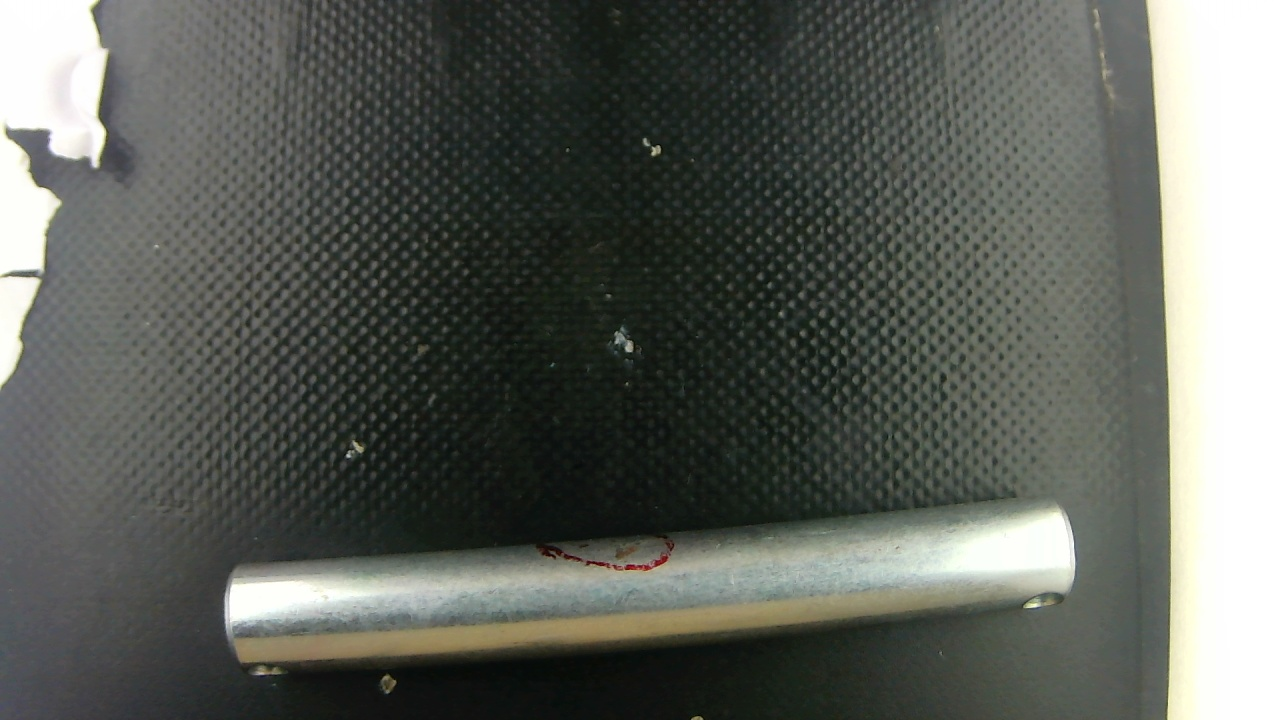rust_pin: (558, 530, 675, 572)
